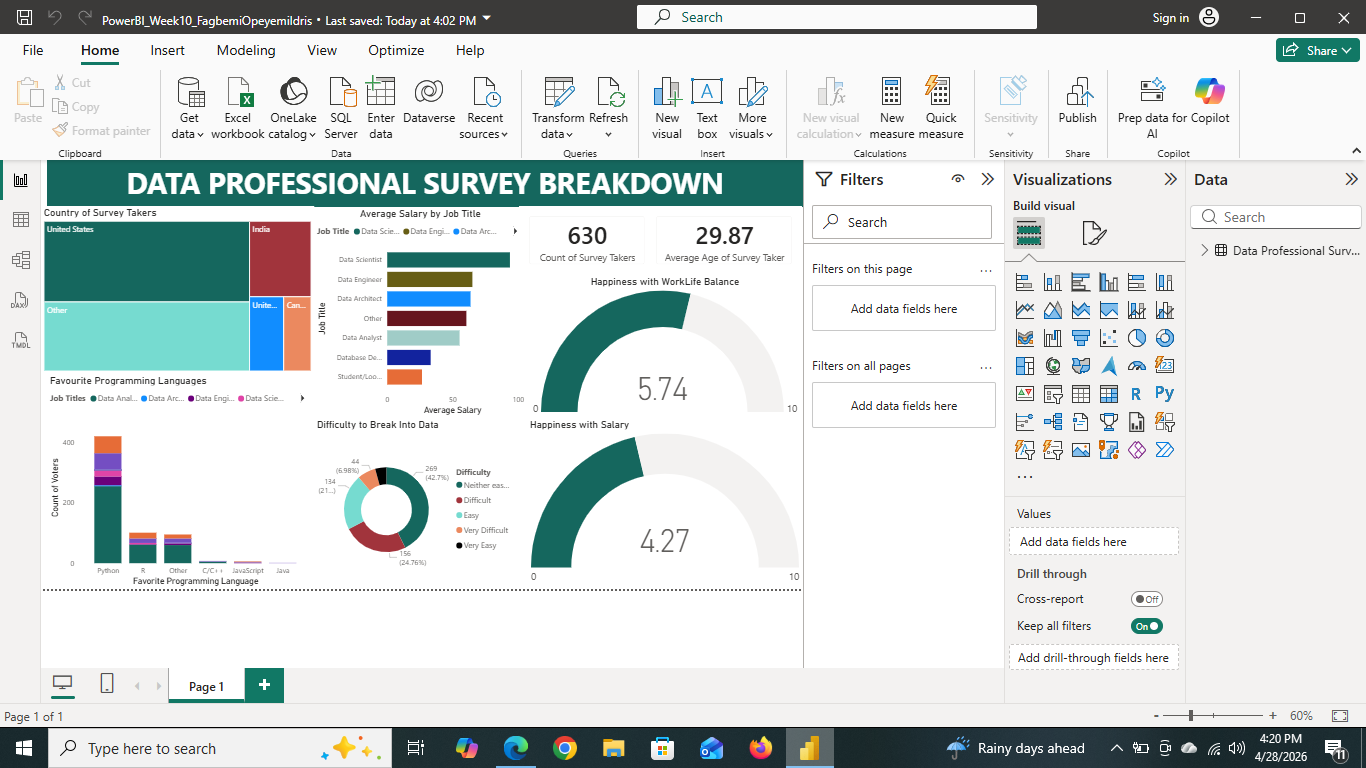

The page's visual inventory and layout, read from the dashboard file:
{"tool":"powerbi","page":{"name":"Page 1","canvas":[1280,720],"ordinal":0},"visuals":[{"type":"textbox","box":[10.1,0,1269.9,79],"z":0},{"type":"cardVisual","fields":{"Data":["Count(Data Professional Survey.Unique ID)"]},"box":[802.9,77.3,228.5,115.9],"z":1000},{"type":"cardVisual","fields":{"Data":["Avg(Data Professional Survey.Q10 - Current Age)"]},"box":[1016.3,77.3,262,115.9],"z":2000},{"type":"barChart","title":"Average Salary by Job Title","fields":{"Category":["Data Professional Survey.Q1 - Which Title Best Fits your Current Role?.1"],"Y":["Avg(Data Professional Survey.Average Salary)"],"Series":["Data Professional Survey.Q1 - Which Title Best Fits your Current Role?.1"]},"box":[458.6,79,357.8,354.4],"z":3000},{"type":"columnChart","title":"Favourite Programming Languages","fields":{"Category":["Data Professional Survey.Q5 - Favorite Programming Language.1"],"Y":["CountNonNull(Data Professional Survey.Unique ID)"],"Series":["Data Professional Survey.Q1 - Which Title Best Fits your Current Role?.1"]},"box":[10.1,359.5,448.5,361.2],"z":4000},{"type":"treemap","title":"Country of Survey Takers","fields":{"Values":["CountNonNull(Data Professional Survey.Q11 - Which Country do you live in?.1)"],"Group":["Data Professional Survey.Q11 - Which Country do you live in?.1"]},"box":[0,77.3,458.6,282.2],"z":5000},{"type":"gauge","title":"Happiness with WorkLife Balance","fields":{"Y":["Avg(Data Professional Survey.Q6 - How Happy are you in your Current Position with the following? (Work/Life Balance))"],"MinValue":["Min(Data Professional Survey.Q6 - How Happy are you in your Current Position with the following? (Work/Life Balance))1"],"MaxValue":["Max(Data Professional Survey.Q6 - How Happy are you in your Current Position with the following? (Work/Life Balance))2"]},"box":[816.4,193.2,463.6,240.2],"z":6000},{"type":"gauge","title":"Happiness with Salary","fields":{"Y":["Avg(Data Professional Survey.Q6 - How Happy are you in your Current Position with the following? (Salary))"],"MinValue":["Min(Data Professional Survey.Q6 - How Happy are you in your Current Position with the following? (Salary))"],"MaxValue":["Max(Data Professional Survey.Q6 - How Happy are you in your Current Position with the following? (Salary))"]},"box":[816.4,433.4,463.6,287.2],"z":7000},{"type":"donutChart","title":"Difficulty to Break Into Data","fields":{"Y":["CountNonNull(Data Professional Survey.Q7 - How difficult was it for you to break into Data?)"],"Category":["Data Professional Survey.Q7 - How difficult was it for you to break into Data?"]},"box":[458.6,433.4,344.4,287.2],"z":8000}]}

Visuals, with their boxes on the page's 1280x720 design canvas (x1, y1, x2, y2). These are canvas units, not pixel positions in the 1366x768 screenshot, which may show the page scaled, cropped or inside an application window:
textbox: detection(10, 0, 1280, 79)
cardVisual - Count(Data Professional Survey.Unique ID): detection(803, 77, 1031, 193)
cardVisual - Avg(Data Professional Survey.Q10 - Current Age): detection(1016, 77, 1278, 193)
"Average Salary by Job Title" barChart: detection(459, 79, 816, 433)
"Favourite Programming Languages" columnChart: detection(10, 360, 459, 721)
"Country of Survey Takers" treemap: detection(0, 77, 459, 360)
"Happiness with WorkLife Balance" gauge: detection(816, 193, 1280, 433)
"Happiness with Salary" gauge: detection(816, 433, 1280, 721)
"Difficulty to Break Into Data" donutChart: detection(459, 433, 803, 721)
